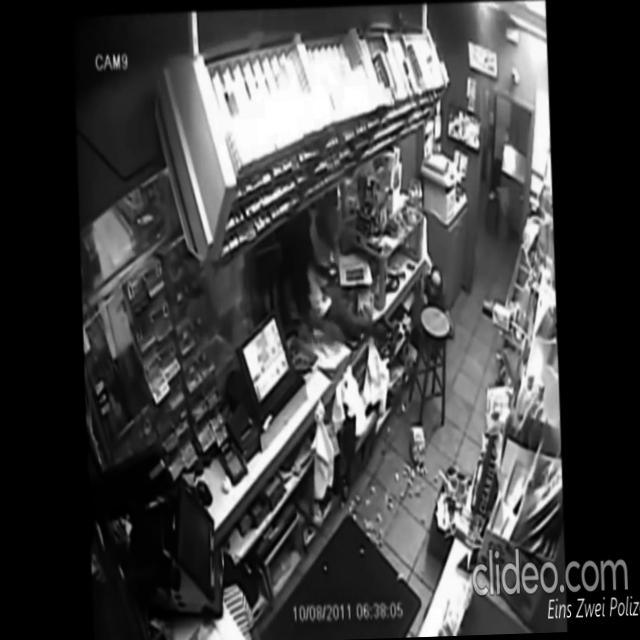gun: (373, 311, 393, 338)
person: (230, 191, 348, 354), (266, 233, 388, 350)
person with a gun: (265, 232, 395, 352)
